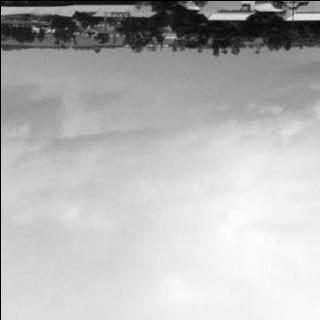Stratus: (0, 45, 320, 320)
